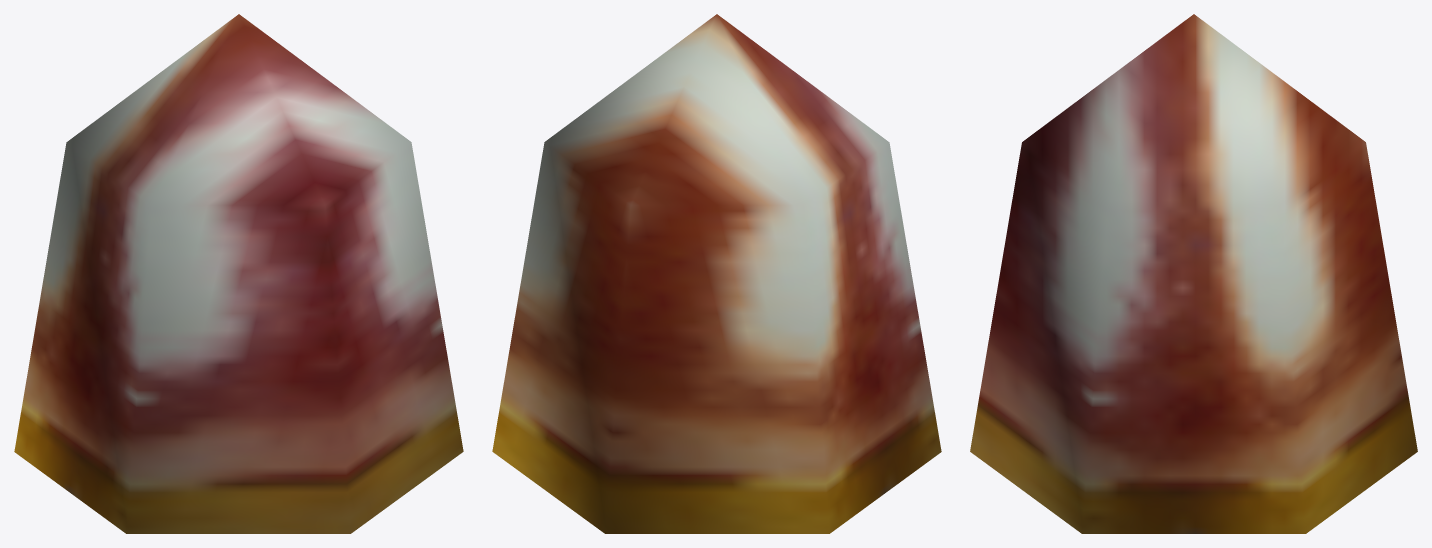
Rendered from PistolBullet.glb.
3 views of the same model, side by side, from view 1: azimuth 30°, elevation 25°; view 2: azimuth 150°, elevation 25°; view 3: azimuth 270°, elevation 25° (orthographic).
Parts seen in each view (by area): view 1: Pistol_caliber_1; view 2: Pistol_caliber_1; view 3: Pistol_caliber_1.
Boxes of the visible parts, x1,y1,x2,y2 form: Pistol_caliber_1: (14, 14, 463, 533); Pistol_caliber_1: (492, 14, 941, 533); Pistol_caliber_1: (970, 14, 1417, 533).
Bounding box in the file's own units: 0.4399 × 0.5456 × 0.506.
1 material, 1 textured.
